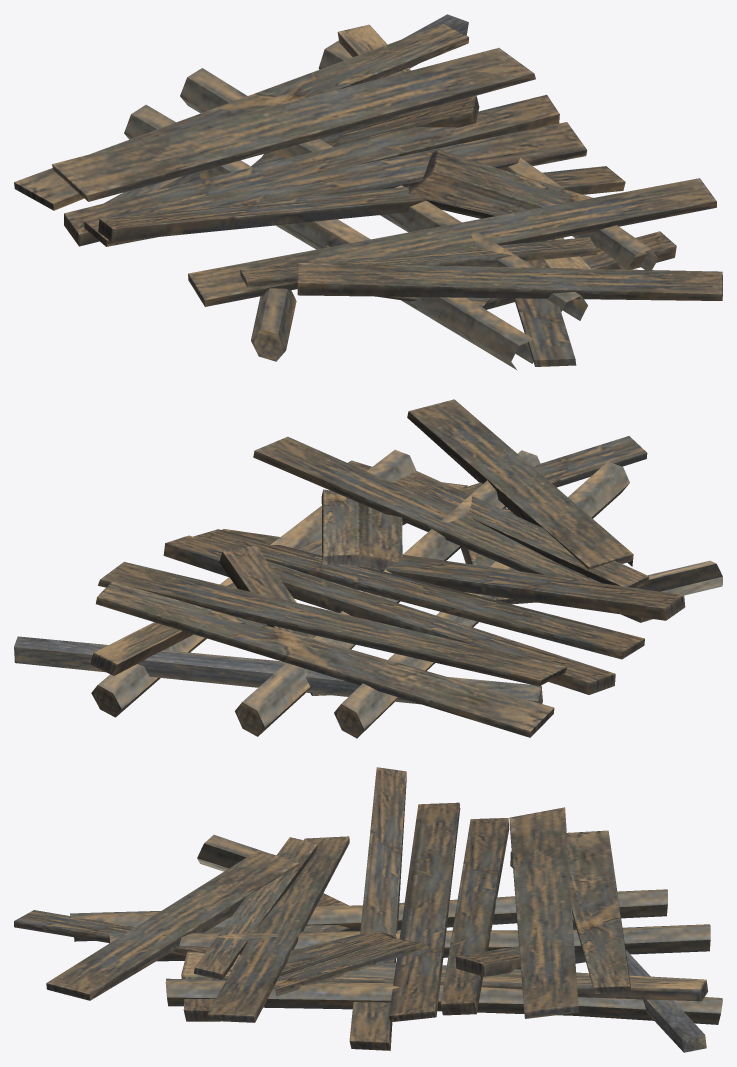
The model's file is 4008_Item_pomuban_3.FBX.
3 renders of one model, top to bottom at view 1: azimuth 30°, elevation 25°; view 2: azimuth 150°, elevation 25°; view 3: azimuth 270°, elevation 25°, orthographic. The views are drawn at different scales.
Visible parts, largest first — view 1: 4008_Item_pomuban_3; view 2: 4008_Item_pomuban_3; view 3: 4008_Item_pomuban_3.
Part boxes in pixels (x1,y1,x2,y2): 4008_Item_pomuban_3: (14, 14, 722, 370); 4008_Item_pomuban_3: (14, 399, 722, 738); 4008_Item_pomuban_3: (14, 767, 722, 1052).
Bounding box in the file's own units: 1751 × 279 × 2274.
